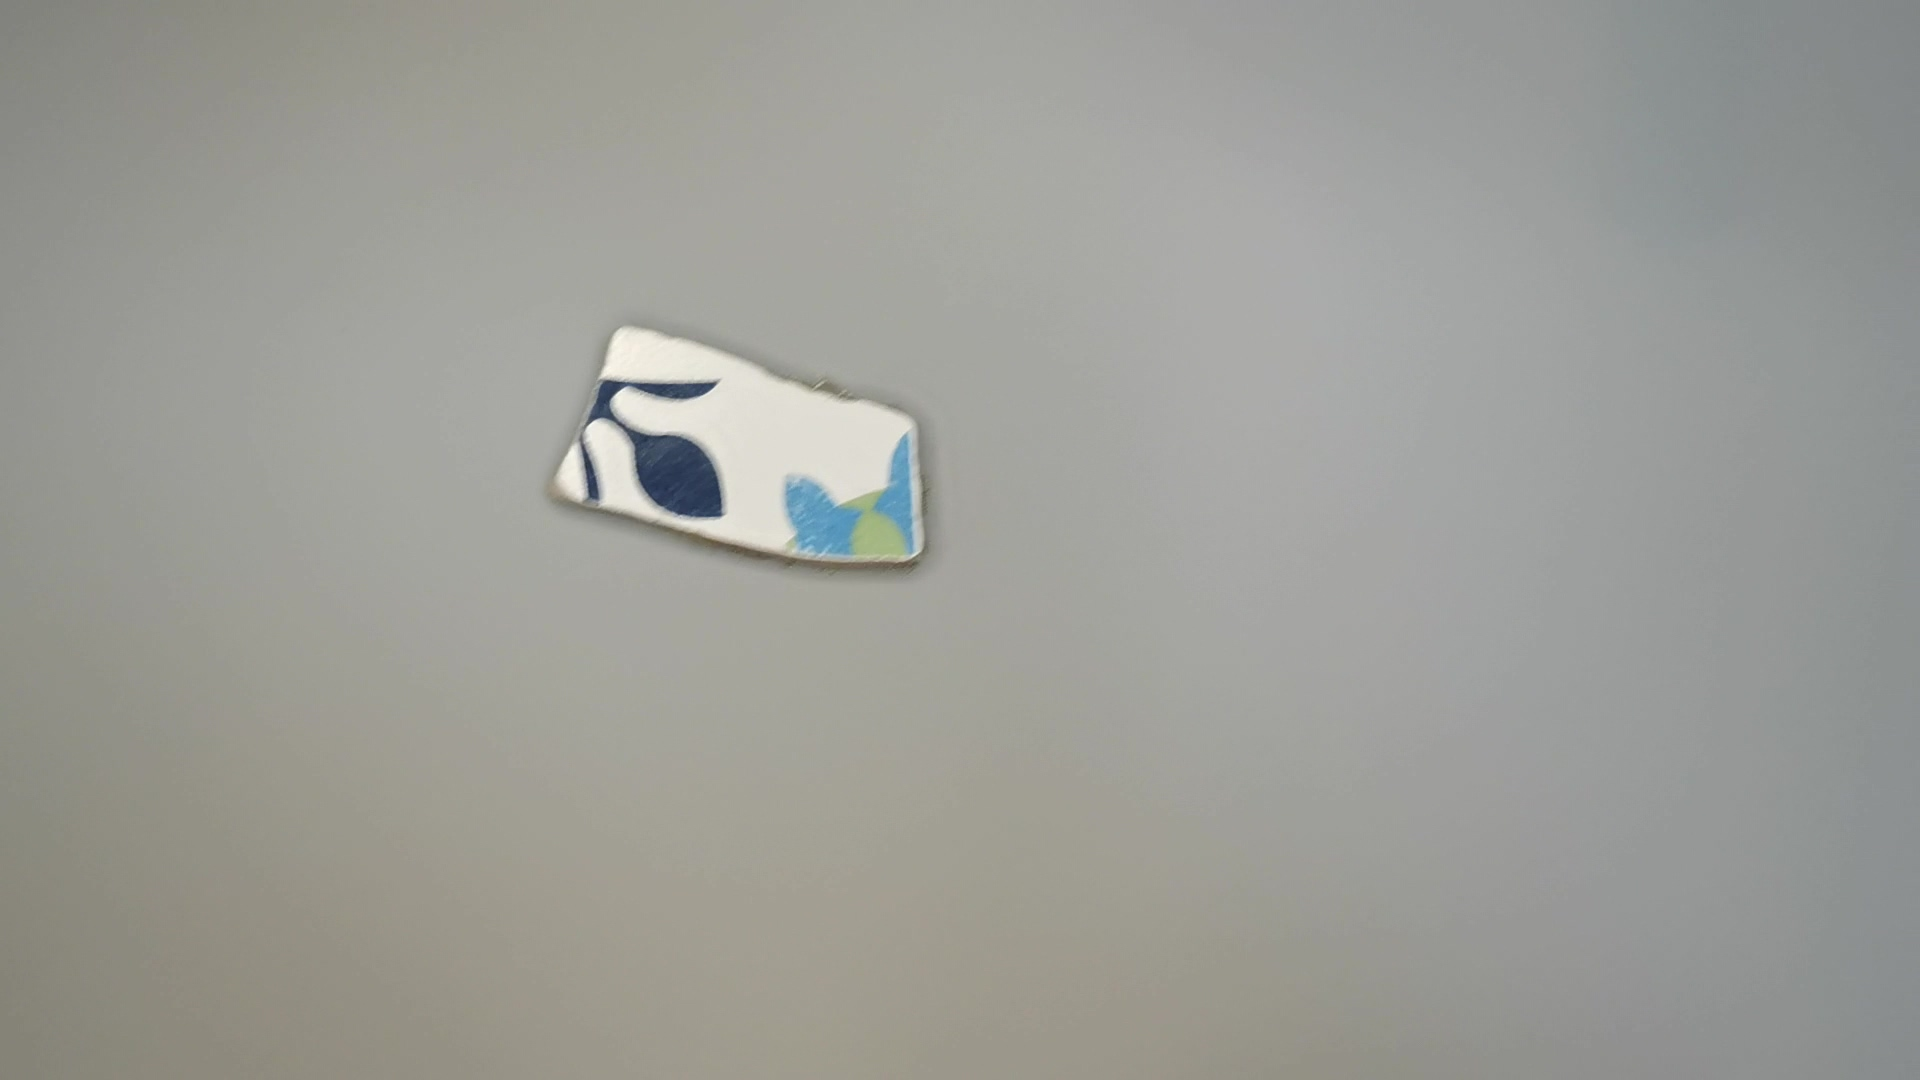ceramic: (538, 322, 934, 578)
